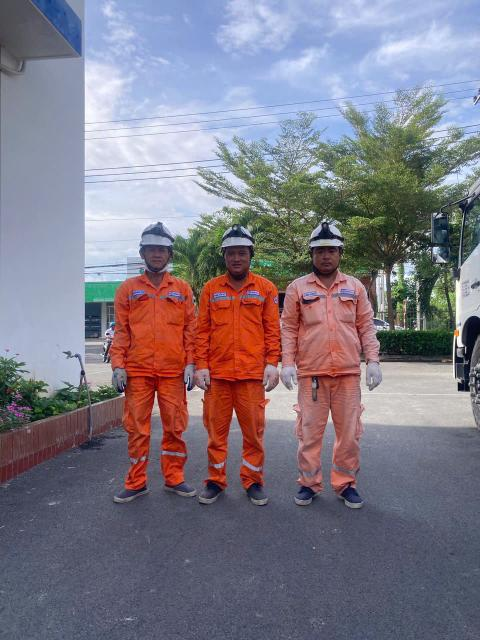gloves: (253, 361, 284, 395), (104, 364, 138, 394), (275, 354, 301, 390), (359, 359, 384, 393), (174, 361, 197, 392), (191, 365, 216, 391)
helmet: (292, 219, 346, 257), (139, 213, 177, 257), (214, 217, 255, 256)
shoes: (282, 471, 321, 518), (331, 475, 370, 518), (236, 471, 271, 509), (112, 478, 156, 508), (187, 473, 222, 510), (166, 479, 196, 503)
